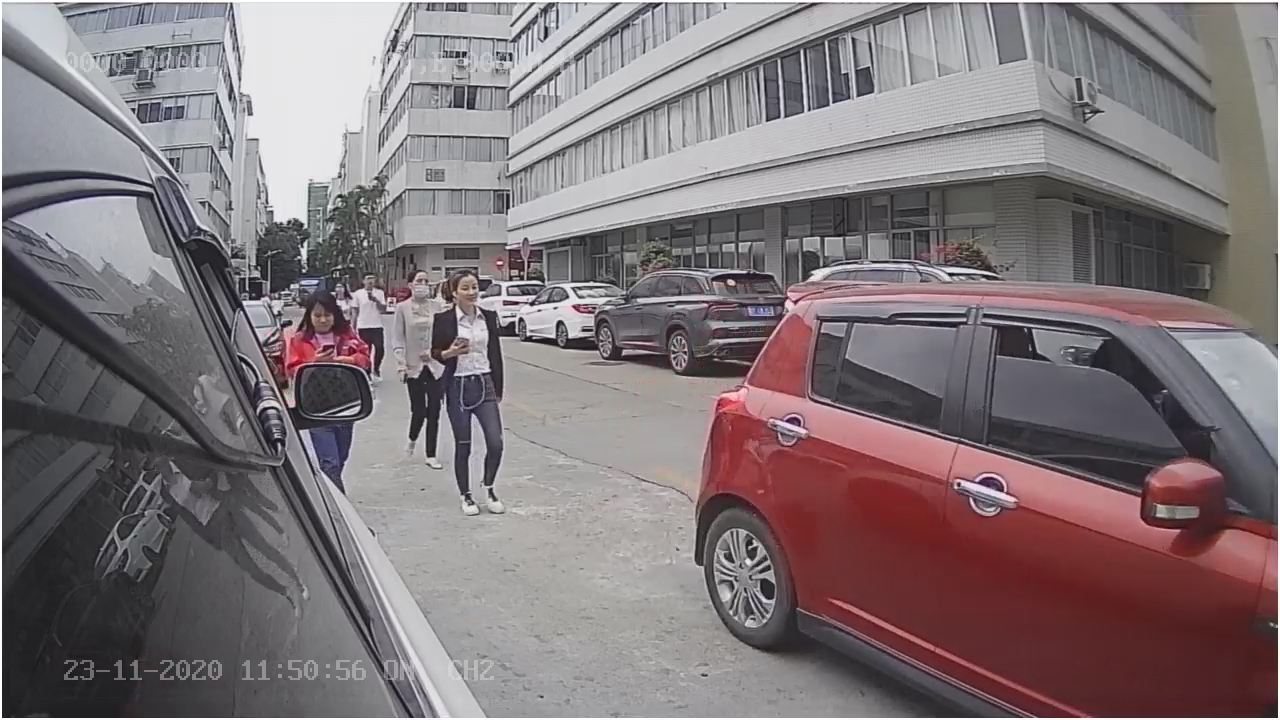person: (428, 262, 515, 512)
